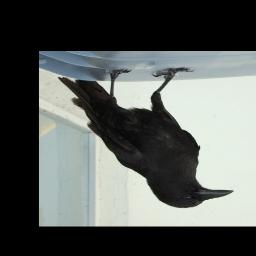Crow: (59, 66, 236, 209)
